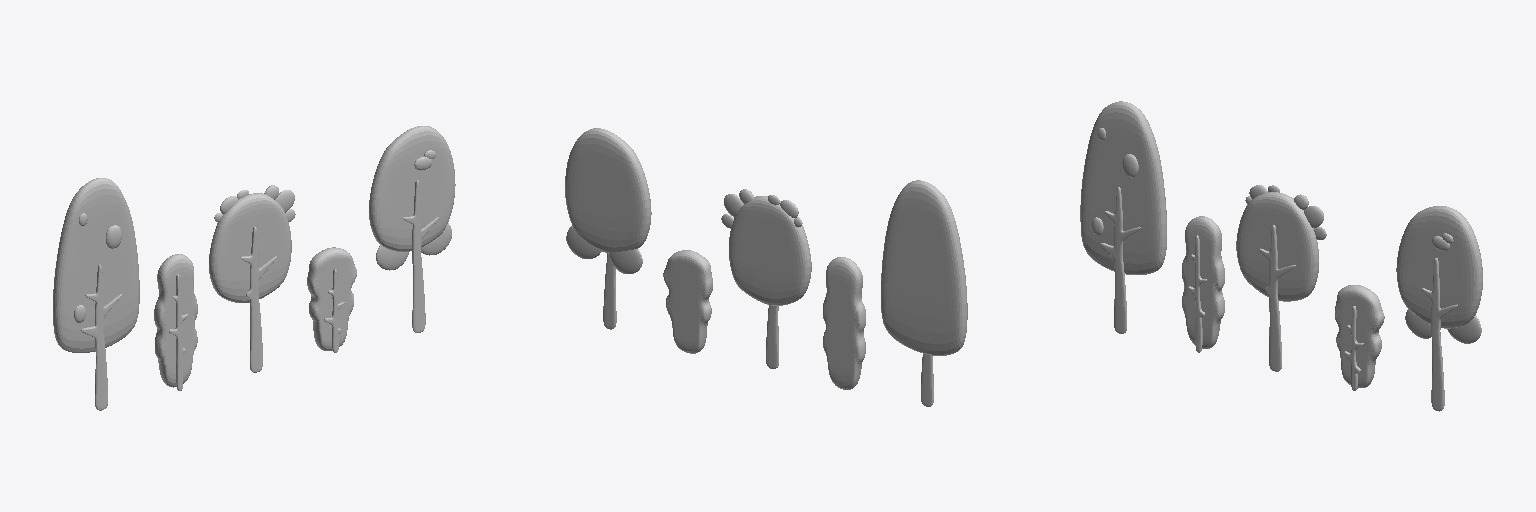
File: cartoon trees.obj
The picture shows the model from 3 angles: view 1: azimuth 30°, elevation 25°; view 2: azimuth 150°, elevation 25°; view 3: azimuth 330°, elevation 25°; orthographic projection.
Parts seen in each view (by area): view 1: cartoon_trees_20, cartoon_trees_05, cartoon_trees_13, cartoon_trees_14, cartoon_trees_21, cartoon_trees_19, cartoon_trees_03, cartoon_trees_10, cartoon_trees_15, cartoon_trees_04, cartoon_trees_22; view 2: cartoon_trees_20, cartoon_trees_05, cartoon_trees_13, cartoon_trees_14, cartoon_trees_21, cartoon_trees_03, cartoon_trees_10, cartoon_trees_04, cartoon_trees_19, cartoon_trees_02; view 3: cartoon_trees_20, cartoon_trees_05, cartoon_trees_13, cartoon_trees_14, cartoon_trees_21, cartoon_trees_19, cartoon_trees_03, cartoon_trees_10, cartoon_trees_15, cartoon_trees_22, cartoon_trees_02.
Part boxes in pixels (left/top/right/bottom): cartoon_trees_20: left=53, top=178, right=139, bottom=352; cartoon_trees_05: left=369, top=126, right=455, bottom=251; cartoon_trees_13: left=209, top=193, right=291, bottom=302; cartoon_trees_14: left=154, top=254, right=197, bottom=387; cartoon_trees_21: left=307, top=247, right=356, bottom=350; cartoon_trees_19: left=81, top=264, right=121, bottom=410; cartoon_trees_03: left=403, top=180, right=438, bottom=332; cartoon_trees_10: left=240, top=226, right=276, bottom=372; cartoon_trees_15: left=169, top=274, right=187, bottom=390; cartoon_trees_04: left=376, top=245, right=408, bottom=270; cartoon_trees_22: left=324, top=268, right=344, bottom=352; cartoon_trees_20: left=881, top=180, right=967, bottom=355; cartoon_trees_05: left=565, top=128, right=651, bottom=253; cartoon_trees_13: left=729, top=196, right=811, bottom=305; cartoon_trees_14: left=823, top=257, right=865, bottom=389; cartoon_trees_21: left=663, top=250, right=712, bottom=353; cartoon_trees_03: left=603, top=253, right=616, bottom=329; cartoon_trees_10: left=766, top=305, right=778, bottom=368; cartoon_trees_04: left=610, top=249, right=642, bottom=273; cartoon_trees_19: left=921, top=354, right=933, bottom=406; cartoon_trees_02: left=566, top=226, right=601, bottom=258; cartoon_trees_20: left=1080, top=101, right=1166, bottom=274; cartoon_trees_05: left=1396, top=206, right=1482, bottom=328; cartoon_trees_13: left=1236, top=192, right=1318, bottom=301; cartoon_trees_14: left=1182, top=216, right=1224, bottom=348; cartoon_trees_21: left=1335, top=285, right=1384, bottom=387; cartoon_trees_19: left=1100, top=187, right=1140, bottom=333; cartoon_trees_03: left=1422, top=258, right=1458, bottom=411; cartoon_trees_10: left=1259, top=225, right=1295, bottom=371; cartoon_trees_15: left=1188, top=235, right=1206, bottom=352; cartoon_trees_22: left=1344, top=306, right=1363, bottom=390; cartoon_trees_02: left=1447, top=315, right=1481, bottom=343.
Bounding box in the file's own units: 25.06 × 13.64 × 1.2.